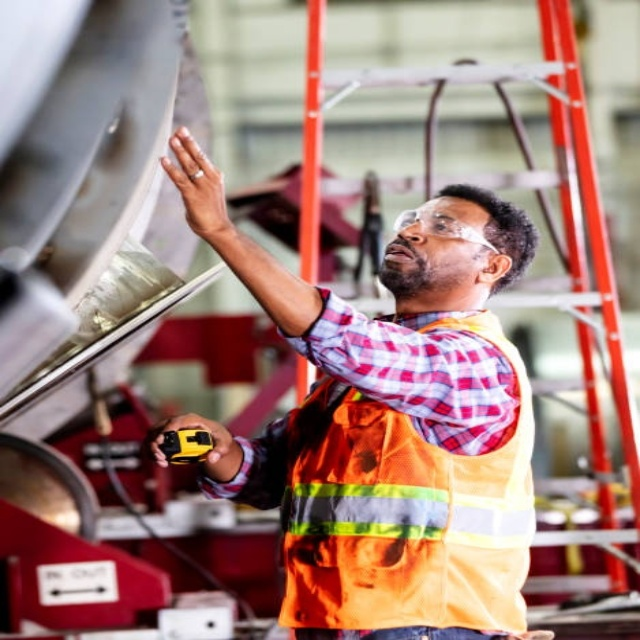Gafas: (390, 209, 501, 257)
Sin_guantes: (157, 121, 239, 234), (148, 412, 234, 471)
Sin_mascara: (378, 239, 428, 273)
